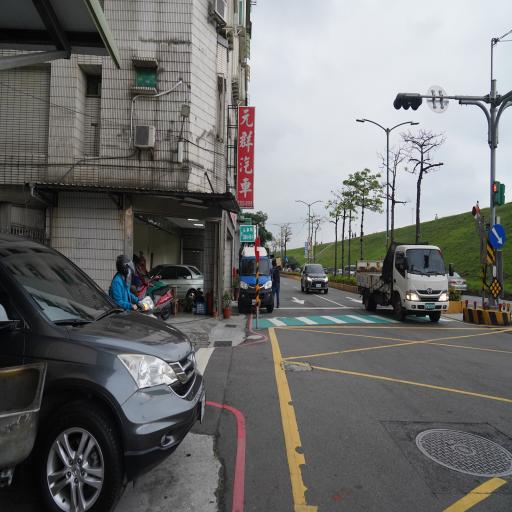car: (0, 221, 208, 512), (350, 227, 456, 330), (237, 242, 276, 314), (299, 255, 329, 303)
redline: (204, 391, 251, 512)
